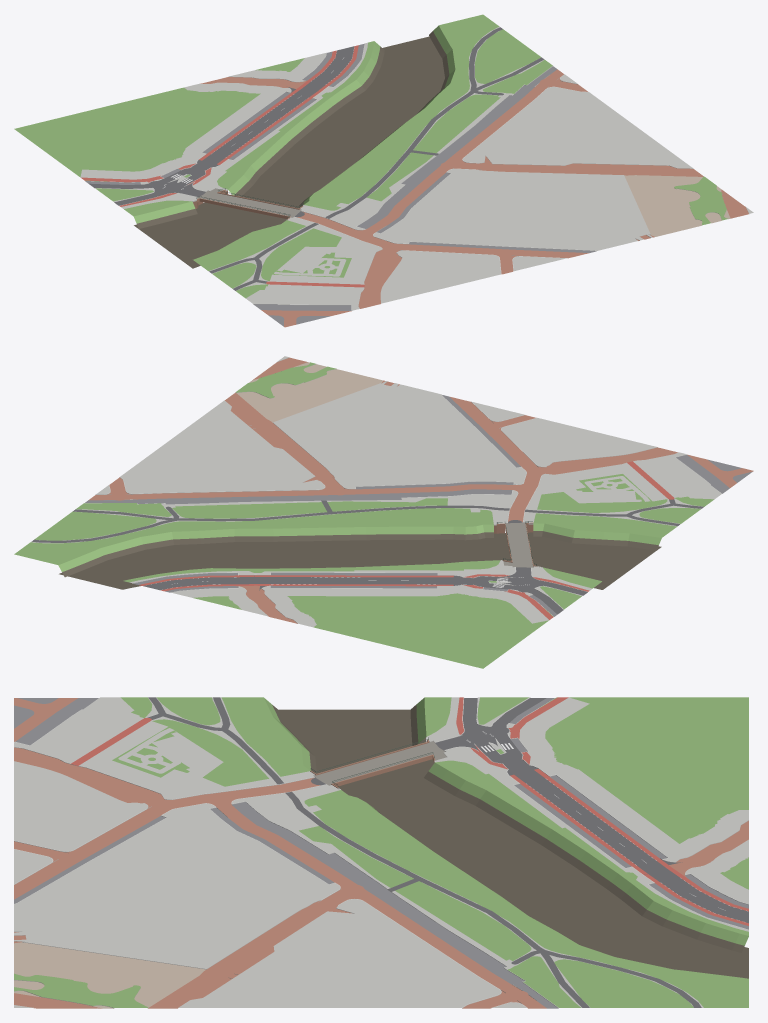
Rendered from ground_7_8.glb.
3 renders of one model, top to bottom at view 1: azimuth 30°, elevation 25°; view 2: azimuth 150°, elevation 25°; view 3: azimuth 270°, elevation 25°, orthographic. The views are drawn at different scales.
Parts seen in each view (by area): view 1: ground_7_8; view 2: ground_7_8; view 3: ground_7_8.
Boxes of the visible parts, x1,y1,x2,y2 form: ground_7_8: [14, 14, 753, 327]; ground_7_8: [14, 356, 753, 668]; ground_7_8: [14, 697, 748, 1008].
Bounding box in the file's own units: 200 × 4.6 × 201.
